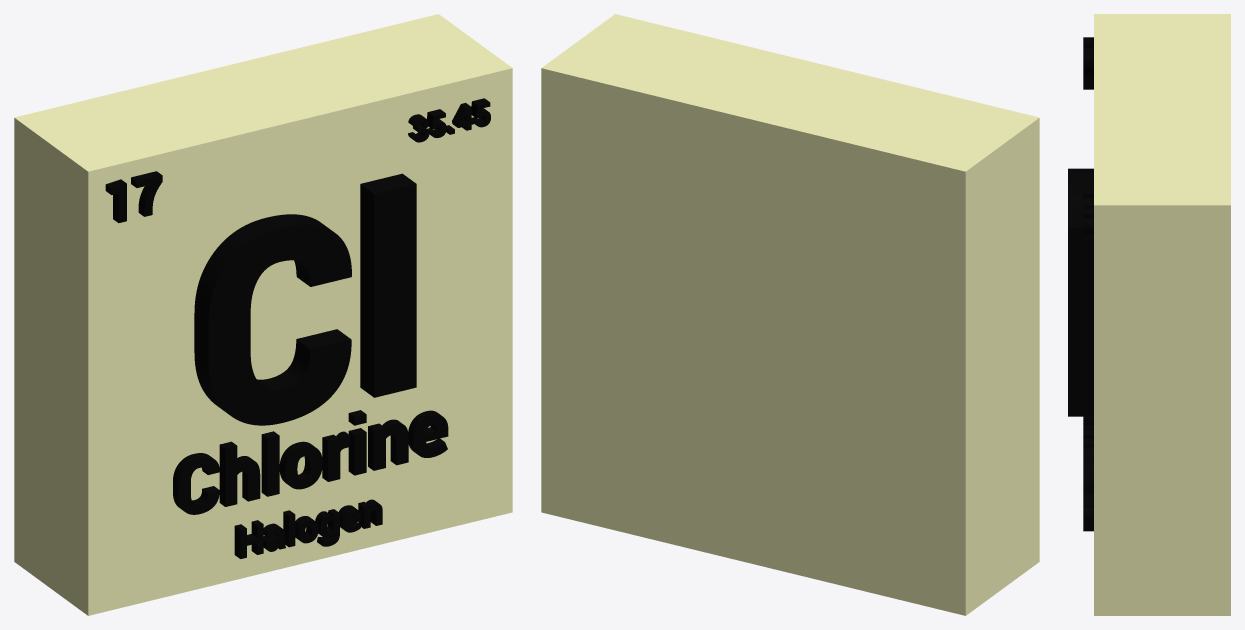
The picture shows the model from 3 angles, left to right: view 1: azimuth 30°, elevation 25°; view 2: azimuth 150°, elevation 25°; view 3: azimuth 270°, elevation 25°; orthographic projection. The views are drawn at different scales.
Parts seen in each view (by area): view 1: Cube, Text, Text.001, Text.002, Text.004, Text.003; view 2: Cube; view 3: Cube, Text, Text.001, Text.003, Text.004, Text.002.
Boxes of the visible parts, <box> form: Cube: <box>14,14,512,615</box>; Text: <box>194,173,416,425</box>; Text.001: <box>173,410,448,514</box>; Text.002: <box>234,499,382,558</box>; Text.004: <box>408,98,490,142</box>; Text.003: <box>105,171,162,223</box>; Cube: <box>541,14,1039,615</box>; Cube: <box>1094,14,1230,615</box>; Text: <box>1068,168,1093,416</box>; Text.001: <box>1083,416,1093,505</box>; Text.003: <box>1083,37,1093,89</box>; Text.004: <box>1083,181,1093,233</box>; Text.002: <box>1083,506,1093,531</box>.
Bounding box in the file's own units: 178 × 178 × 63.95.
